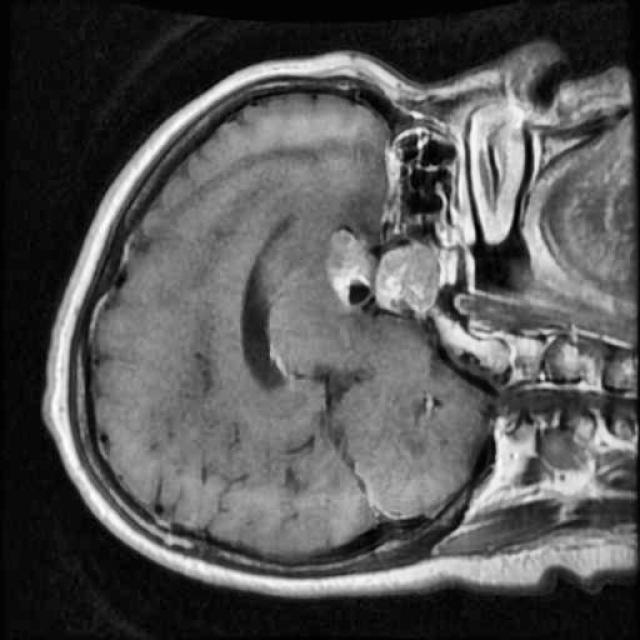Tumor: (318, 213, 458, 331)
